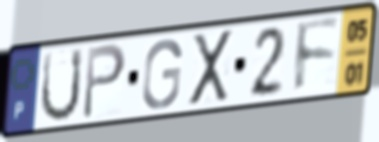2: (248, 24, 289, 101)
F: (294, 16, 342, 97)
G: (140, 37, 184, 111)
P: (80, 41, 129, 123)
U: (38, 45, 85, 125)
X: (188, 27, 234, 110)
